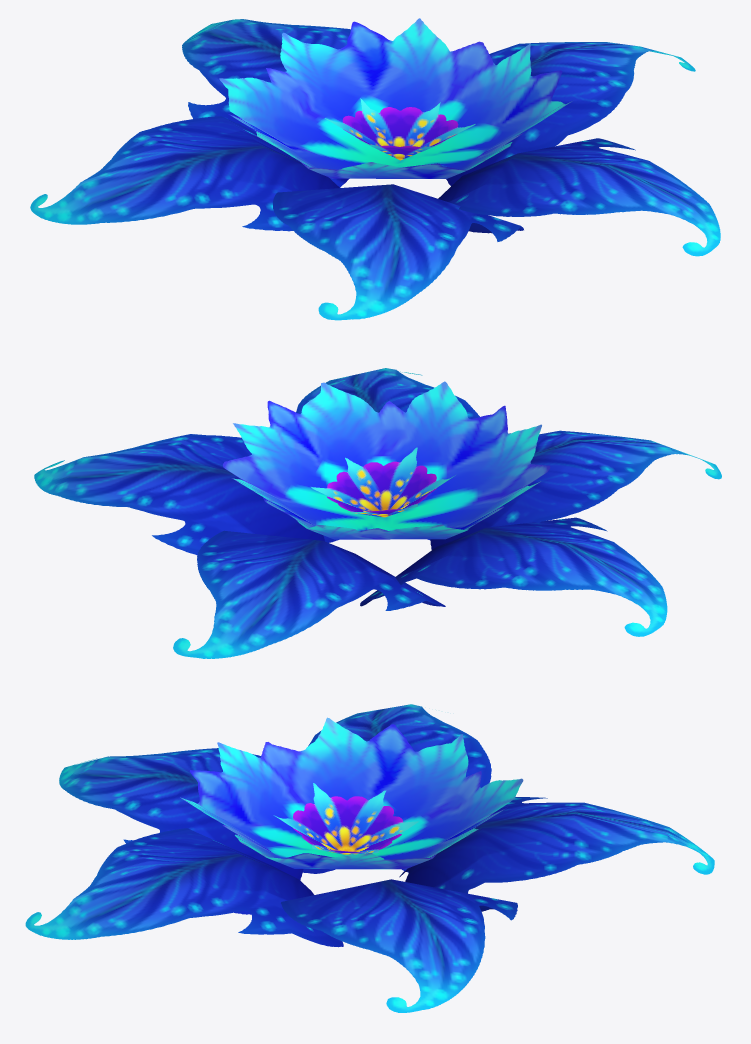
The model's file is Blue_Bush_06.FBX.
3 views of the same model, one above another, from view 1: azimuth 30°, elevation 25°; view 2: azimuth 150°, elevation 25°; view 3: azimuth 270°, elevation 25° (orthographic). The views are drawn at different scales.
Visible parts, largest first — view 1: Blue_Bush_06; view 2: Blue_Bush_06; view 3: Blue_Bush_06.
Boxes of the visible parts, x1=… form: Blue_Bush_06: x1=30, y1=18, x2=720, y2=320; Blue_Bush_06: x1=34, y1=368, x2=721, y2=658; Blue_Bush_06: x1=25, y1=704, x2=714, y2=1012.
Size of the model in its own units: 262 by 52.35 by 249.
